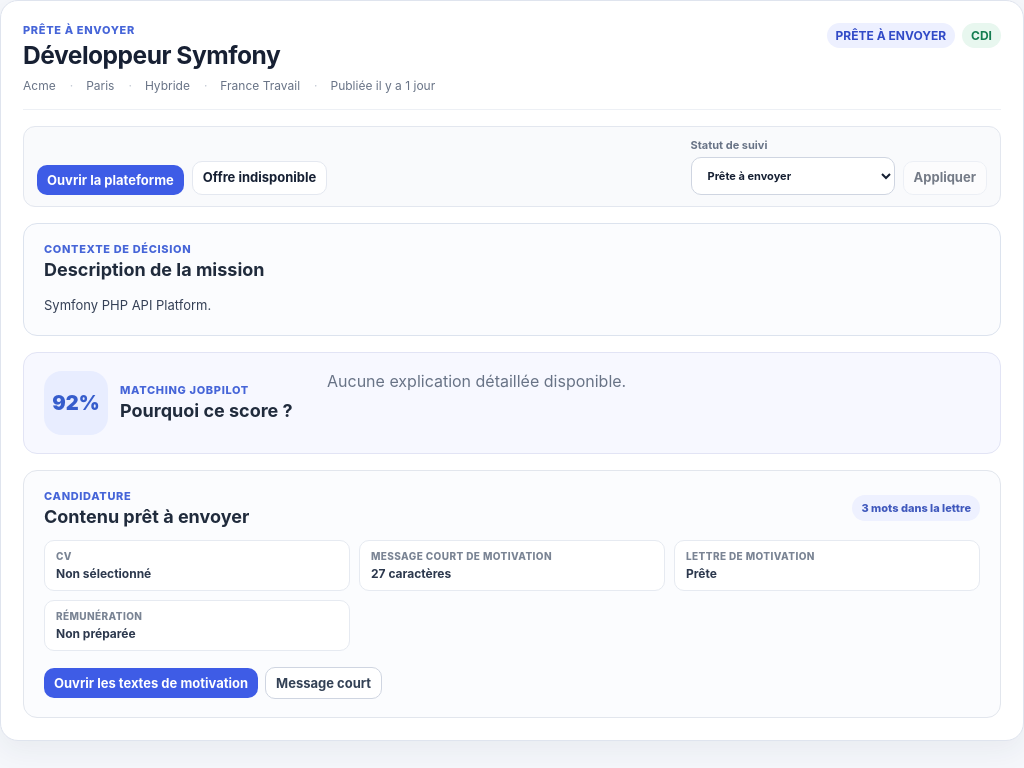
Review Queue motivation message › keeps the card compact and moves the short text into the motivation drawer
The image size is (1024, 768).
Expected: the text "Message court déjà préparé." is not shown
Expected: the text "27 caractères" is shown, [371,566,451,581]
Step 1. Click the button "Message court" → (324, 683), box [265,667,382,699]
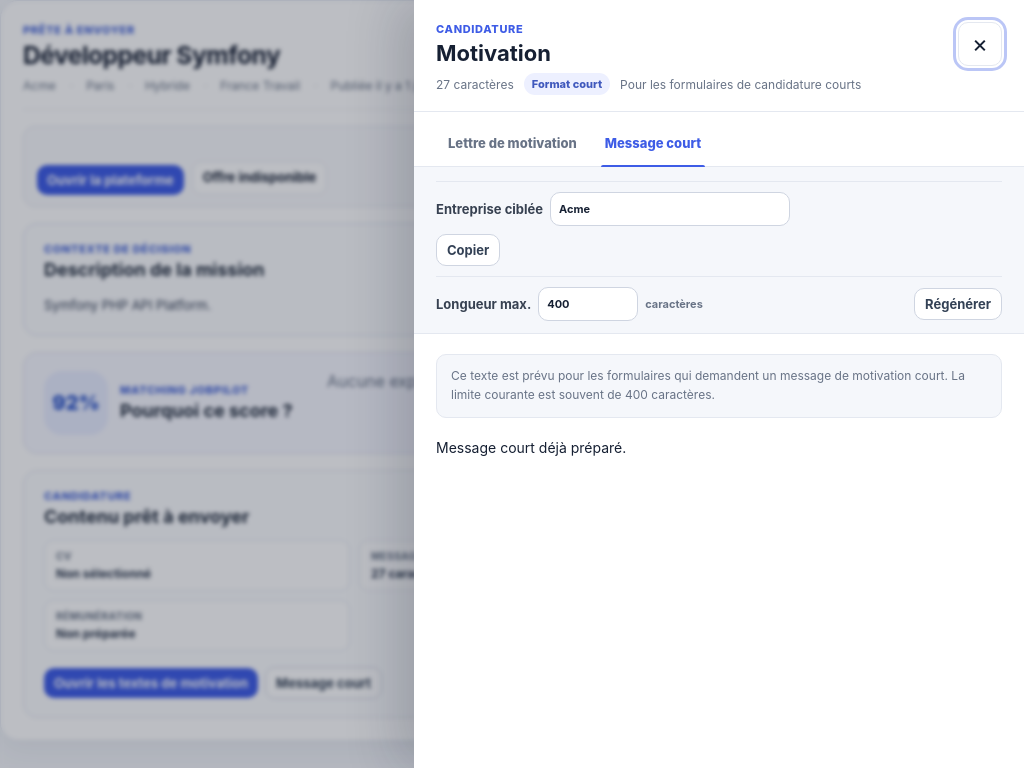
Now the text "Message court déjà préparé." is shown, box [436,439,626,456]
Now the number field named "Longueur maximale du message court" holds "400", box [538,287,638,321]
